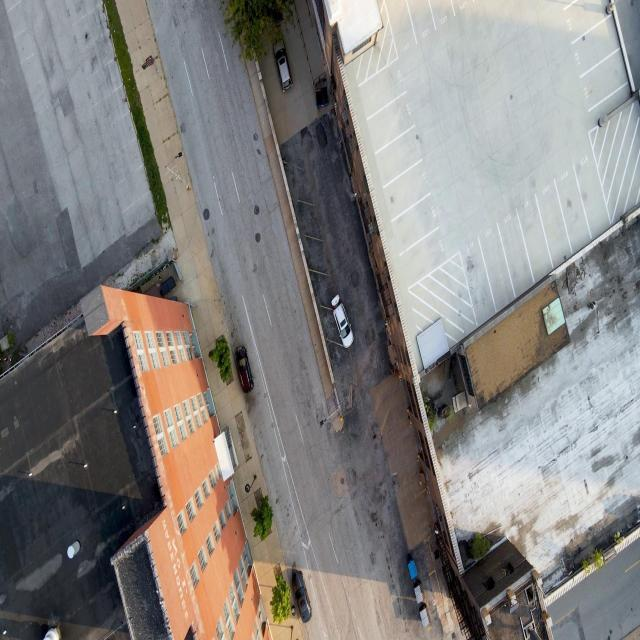Car: (327, 281, 357, 364), (265, 30, 296, 98), (287, 566, 317, 626), (232, 339, 258, 394), (411, 585, 435, 630), (398, 548, 418, 586)
